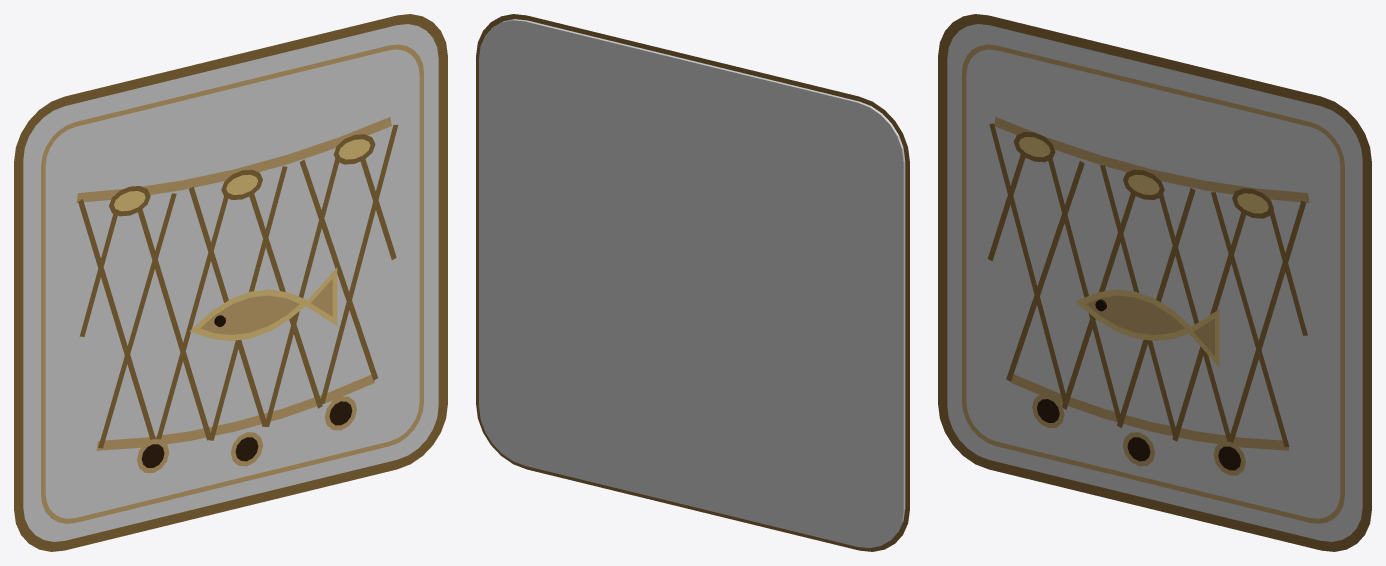
The model's file is obj-set-rybaka.glb.
3 views of the same model, side by side, from view 1: azimuth 30°, elevation 25°; view 2: azimuth 150°, elevation 25°; view 3: azimuth 330°, elevation 25° (orthographic).
Visible parts, largest first — view 1: obj-set-rybaka; view 2: obj-set-rybaka; view 3: obj-set-rybaka.
Boxes of the visible parts, <box> form: obj-set-rybaka: <box>14,14,447,551</box>; obj-set-rybaka: <box>476,14,909,551</box>; obj-set-rybaka: <box>938,14,1371,551</box>.
Size of the model in its own units: 0.3917 by 0.3917 by 0.0375.
